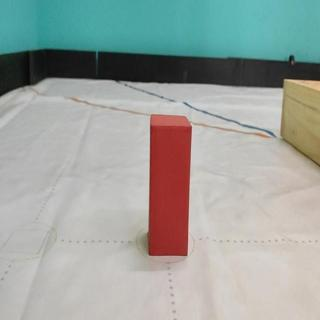redbox: (149, 113, 192, 257)
